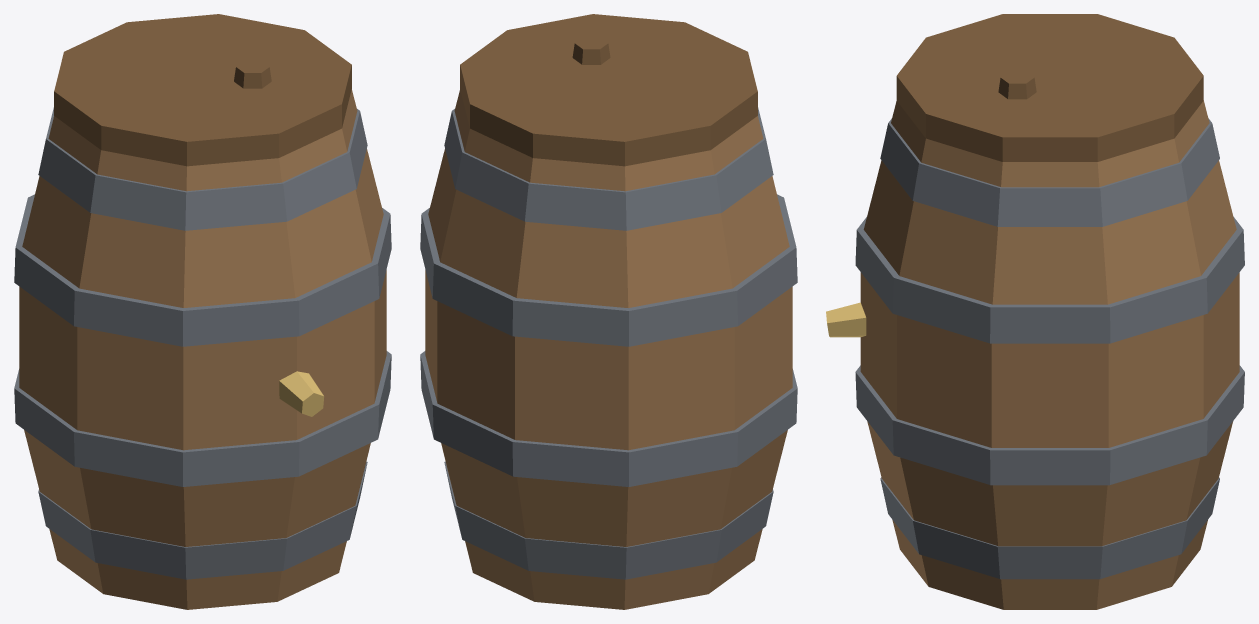
File: prop_barrel.glb
3 renders of one model, left to right at view 1: azimuth 30°, elevation 25°; view 2: azimuth 150°, elevation 25°; view 3: azimuth 270°, elevation 25°, orthographic.
Parts seen in each view (by area): view 1: Barrel; view 2: Barrel; view 3: Barrel.
Boxes of the visible parts, <box> form: Barrel: <box>14,14,391,609</box>; Barrel: <box>420,14,797,609</box>; Barrel: <box>826,14,1244,609</box>.
Bounding box in the file's own units: 0.5668 × 0.825 × 0.6411.
